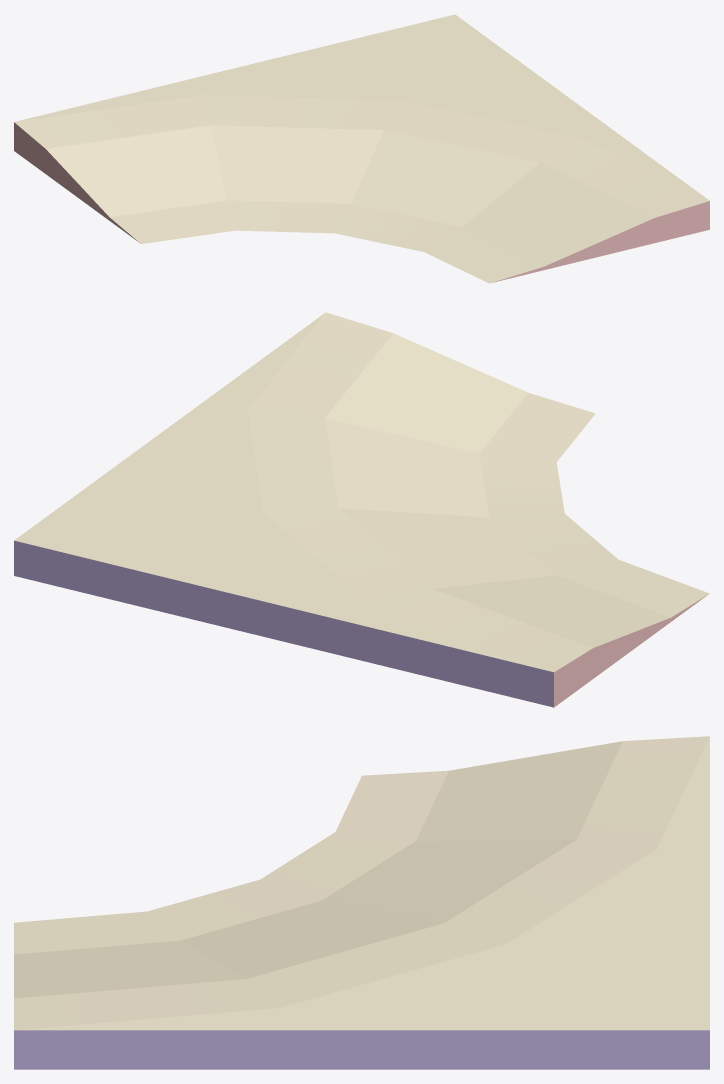
Rendered from Terrain_Sand_Incline_Curve_Inner_8x8.fbx.
3 renders of one model, top to bottom at view 1: azimuth 30°, elevation 25°; view 2: azimuth 150°, elevation 25°; view 3: azimuth 270°, elevation 25°, orthographic. The views are drawn at different scales.
Visible parts, largest first — view 1: Terrain_Sand_Incline_Curve_Inner_8x8; view 2: Terrain_Sand_Incline_Curve_Inner_8x8; view 3: Terrain_Sand_Incline_Curve_Inner_8x8.
Boxes of the visible parts, x1,y1,x2,y2 form: Terrain_Sand_Incline_Curve_Inner_8x8: (14,14,709,283); Terrain_Sand_Incline_Curve_Inner_8x8: (14,312,709,707); Terrain_Sand_Incline_Curve_Inner_8x8: (14,736,709,1069).
Bounding box in the file's own units: 800 × 50 × 800.
